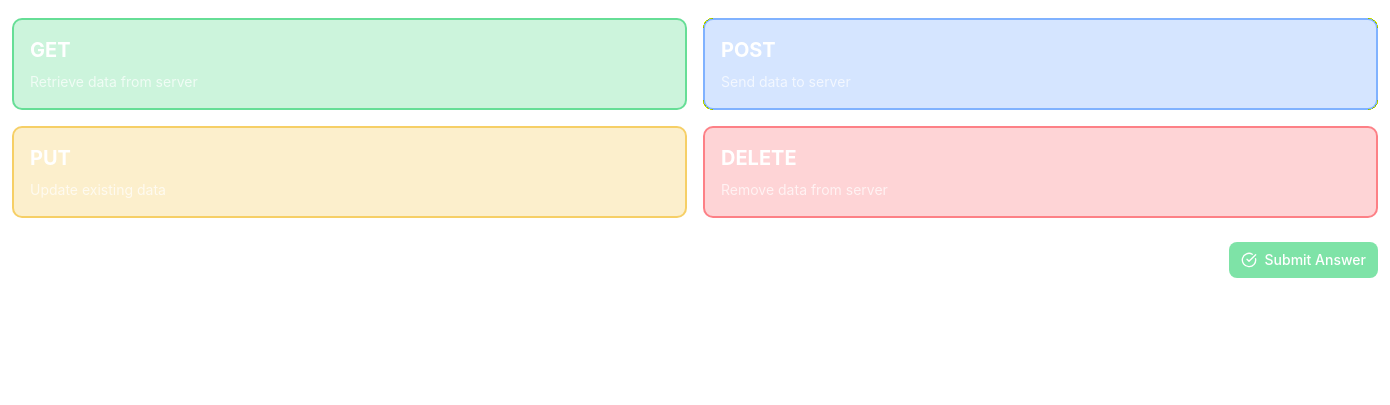
Test case: SelectMethod › feedback › shows error feedback after wrong answer
What coordinates should you click on to do the following:
click the button "DELETE Remove data from server"
I would click on:
 (759, 158)
Its box is left=703, top=126, right=1378, bottom=218.
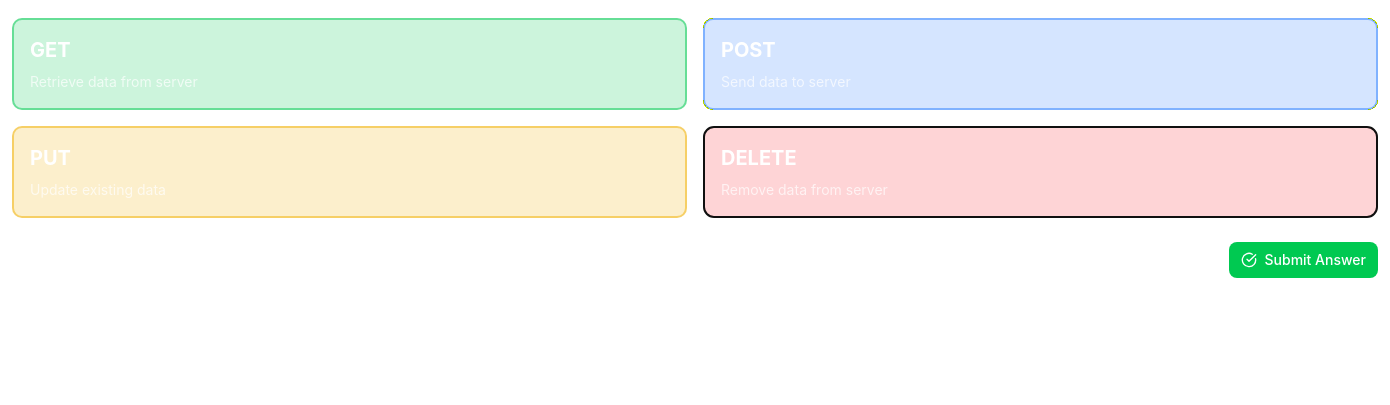
What coordinates should you click on to do the following:
click the button "Submit Answer"
I would click on:
 (1303, 260)
Its box is left=1228, top=242, right=1378, bottom=278.
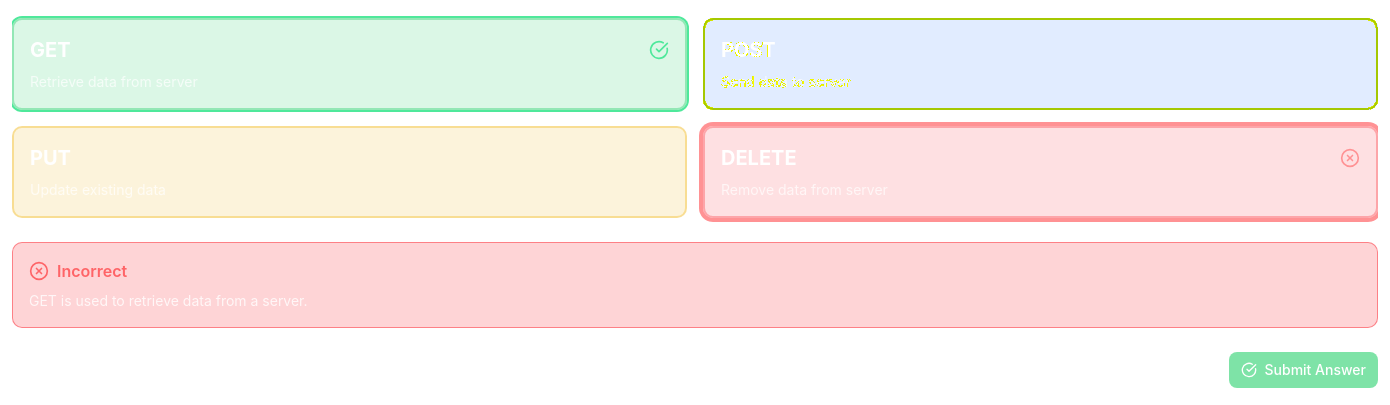
Result: the text "Incorrect" is shown at left=57, top=259, right=127, bottom=283
